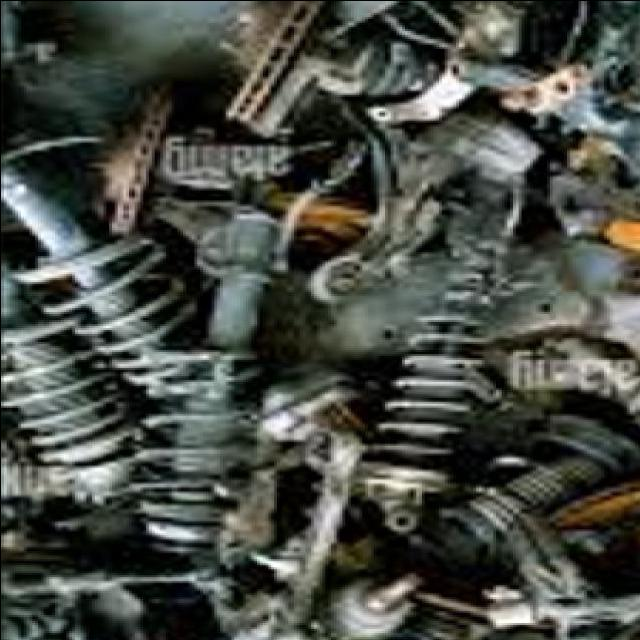shock absorber: (354, 199, 521, 533), (129, 204, 293, 541), (3, 261, 135, 505)
